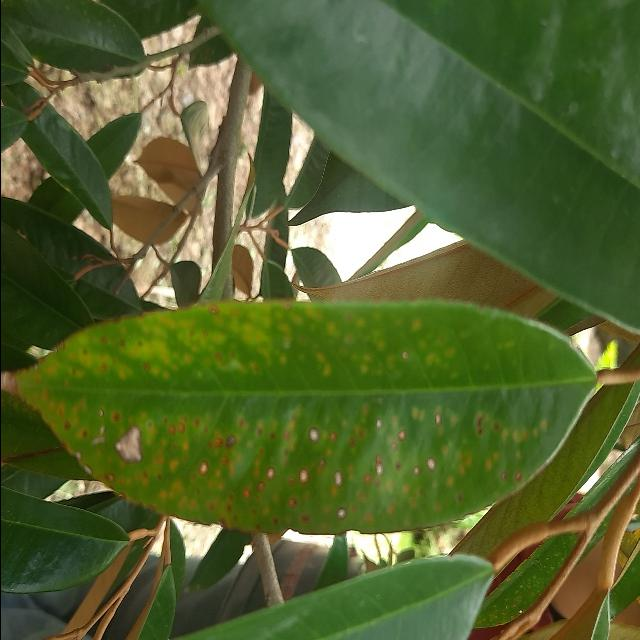Leaf Spot: (1, 287, 599, 542)
